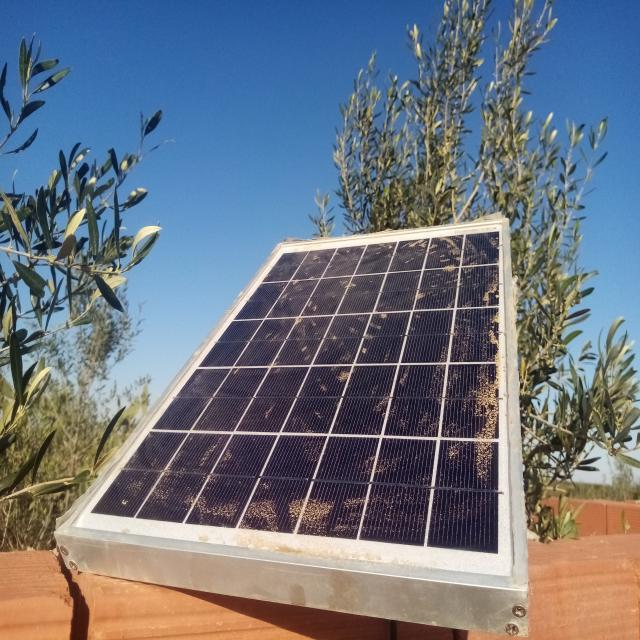faulty: (54, 216, 528, 591)
